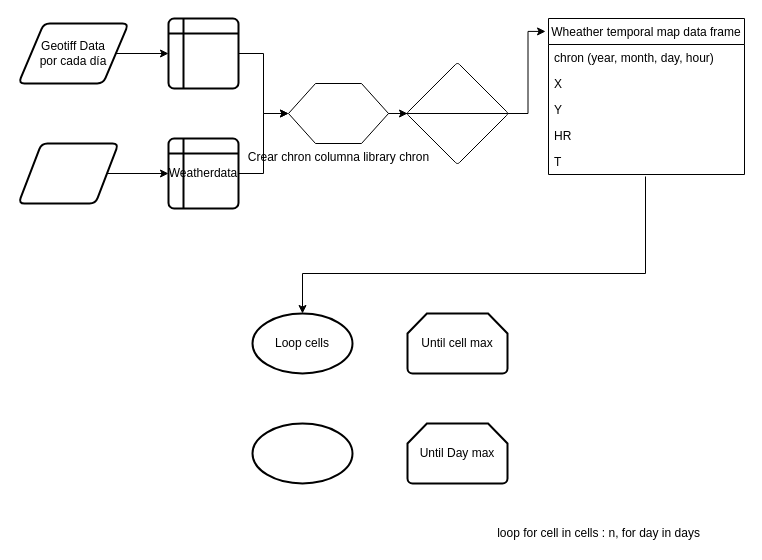
This 762x560 diagram has some shape labels left out. The centre of each missing label's shape, as x and y in pixels:
Loop days: [302,453]
Sort by chron: [457,113]
Weather data: [68,173]
Weatherdata table: [203,53]
